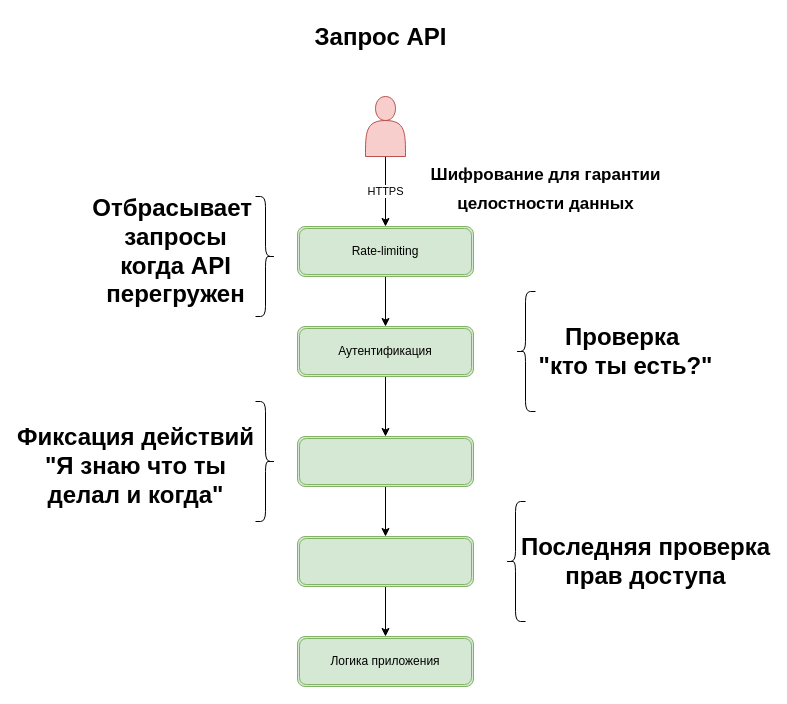
This 787x704 diagram has some shape labels left out. The box of each missing label's shape, as (x1, y1, x2, y2) in pixels:
Audit log: (296, 436, 474, 486)
Контроль доступа: (296, 536, 474, 586)
